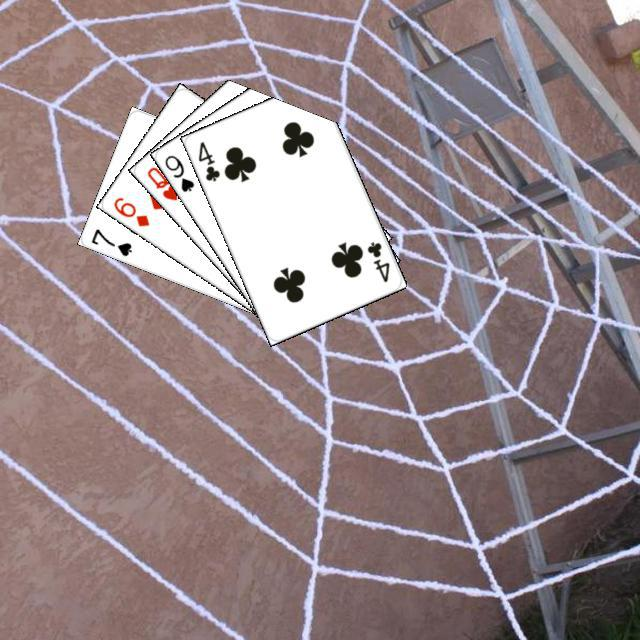4c: (193, 136, 222, 183), (362, 237, 391, 284)
6d: (109, 192, 151, 228)
7s: (86, 224, 134, 258)
9s: (160, 150, 196, 194)
Qh: (142, 162, 179, 202)
